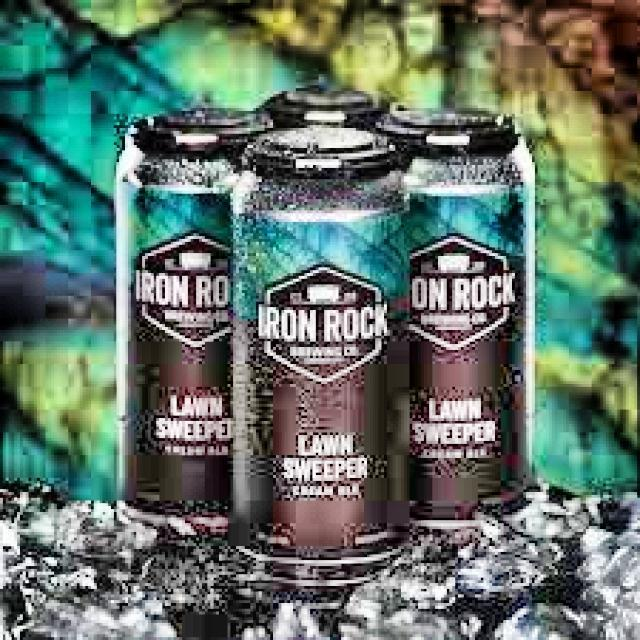Aluminum Can: (226, 116, 424, 594), (110, 100, 280, 531), (384, 102, 542, 537)
